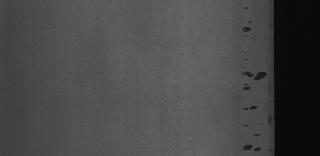oil spot: (241, 64, 269, 84), (238, 142, 266, 156), (242, 19, 256, 35), (238, 82, 254, 94), (238, 104, 258, 112), (266, 111, 272, 123), (242, 121, 250, 127), (252, 132, 260, 138)
